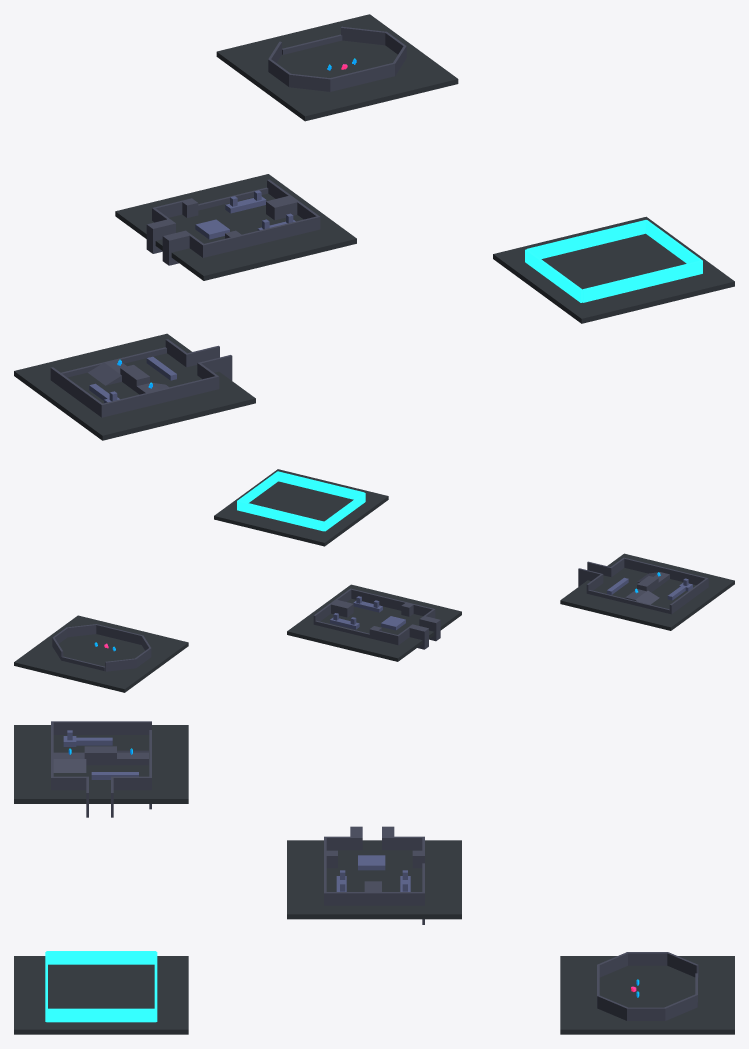
The model's file is ArenaManager.fbx.
The picture shows the model from 3 angles, top to bottom: view 1: azimuth 30°, elevation 25°; view 2: azimuth 150°, elevation 25°; view 3: azimuth 270°, elevation 25°; orthographic projection. The views are drawn at different scales.
Parts seen in each view (by area): view 1: Floor_3, Floor_2, Floor_1, Floor, Cube__1__5, Cube, Cube_1, Cube__2__5, Cube_5, Cube__3__5, Cube__2__2, Cube_4; view 2: Floor_3, Floor_2, Floor_1, Floor, Cube__2__5, Cube__1__5, Cube_1, Cube, Cube_5, Cube__3__5, Cube__2__2, Cube__3__2 (+2 smaller); view 3: Floor_2, Floor_3, Floor, Floor_1, Cube_4, Cube__3__5, Cube__1_, Cube__2__2, Cube__4__2, Cube__2_, Cube__1__2, Cube__2__6 (+3 smaller).
Part boxes in pixels (bbox=[...]): Floor_3: bbox=[216, 14, 458, 121]; Floor_2: bbox=[493, 216, 734, 323]; Floor_1: bbox=[14, 333, 255, 440]; Floor: bbox=[115, 174, 356, 280]; Cube__1__5: bbox=[582, 260, 702, 302]; Cube: bbox=[204, 216, 318, 257]; Cube_1: bbox=[102, 376, 217, 416]; Cube__2__5: bbox=[527, 220, 646, 259]; Cube_5: bbox=[329, 62, 395, 91]; Cube__3__5: bbox=[525, 249, 582, 302]; Cube__2__2: bbox=[50, 367, 104, 417]; Cube_4: bbox=[645, 220, 702, 263]; Floor_3: bbox=[14, 615, 188, 692]; Floor_2: bbox=[214, 469, 388, 546]; Floor_1: bbox=[560, 553, 734, 630]; Floor: bbox=[287, 584, 461, 661]; Cube__2__5: bbox=[237, 501, 323, 531]; Cube__1__5: bbox=[278, 471, 363, 499]; Cube_1: bbox=[624, 558, 706, 585]; Cube: bbox=[350, 589, 433, 616]; Cube_5: bbox=[95, 624, 142, 644]; Cube__3__5: bbox=[323, 492, 365, 531]; Cube__2__2: bbox=[669, 578, 708, 614]; Cube__3__2: bbox=[587, 590, 669, 613]; Floor_2: bbox=[14, 956, 188, 1034]; Floor_3: bbox=[560, 956, 734, 1034]; Floor: bbox=[287, 840, 461, 919]; Floor_1: bbox=[14, 725, 188, 803]; Cube_4: bbox=[46, 1008, 156, 1022]; Cube__3__5: bbox=[46, 951, 156, 964]; Cube__1_: bbox=[324, 892, 424, 905]; Cube__2__2: bbox=[51, 721, 151, 734]; Cube__4__2: bbox=[84, 746, 116, 765]; Cube__2_: bbox=[382, 836, 424, 850]; Cube__1__2: bbox=[111, 776, 151, 790]; Cube__2__6: bbox=[626, 952, 668, 965].
Size of the model in its own units: 13200 by 672 by 13200.
